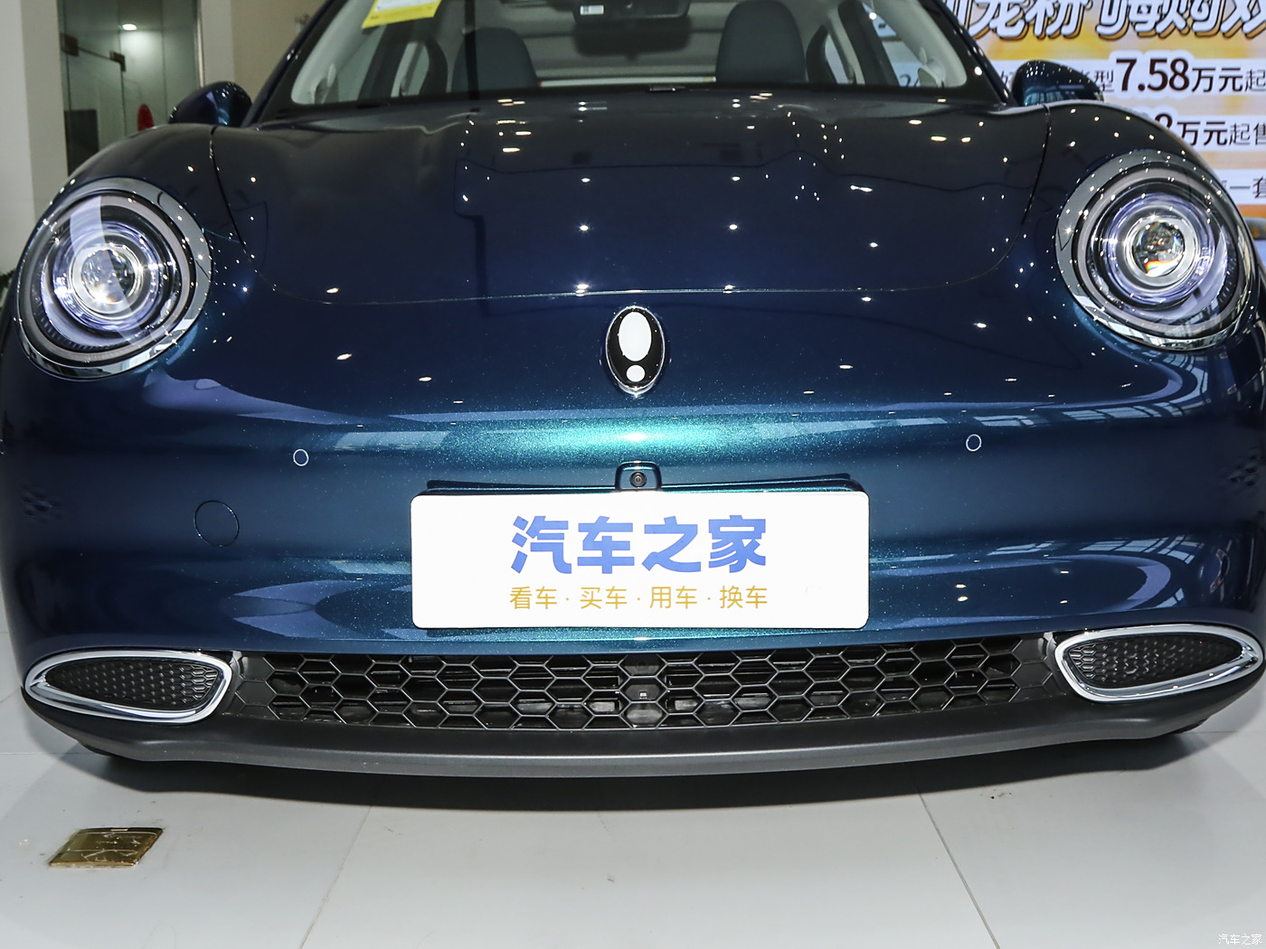ORA: (606, 306, 664, 393)
